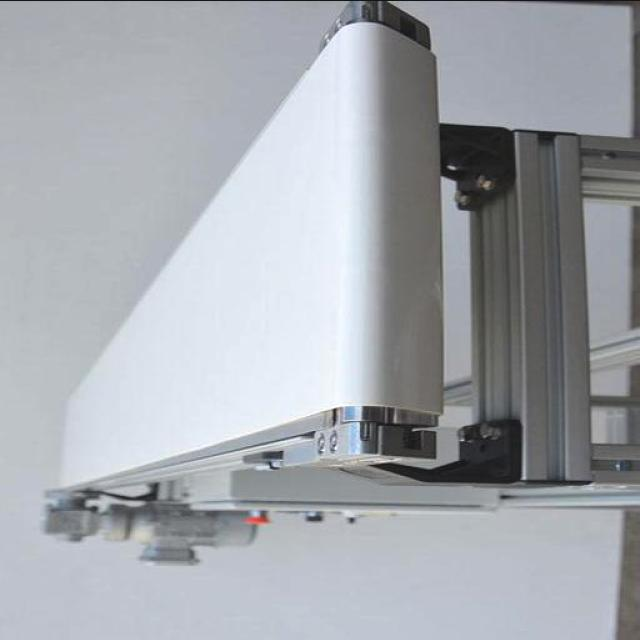conveyor: (58, 27, 447, 488)
